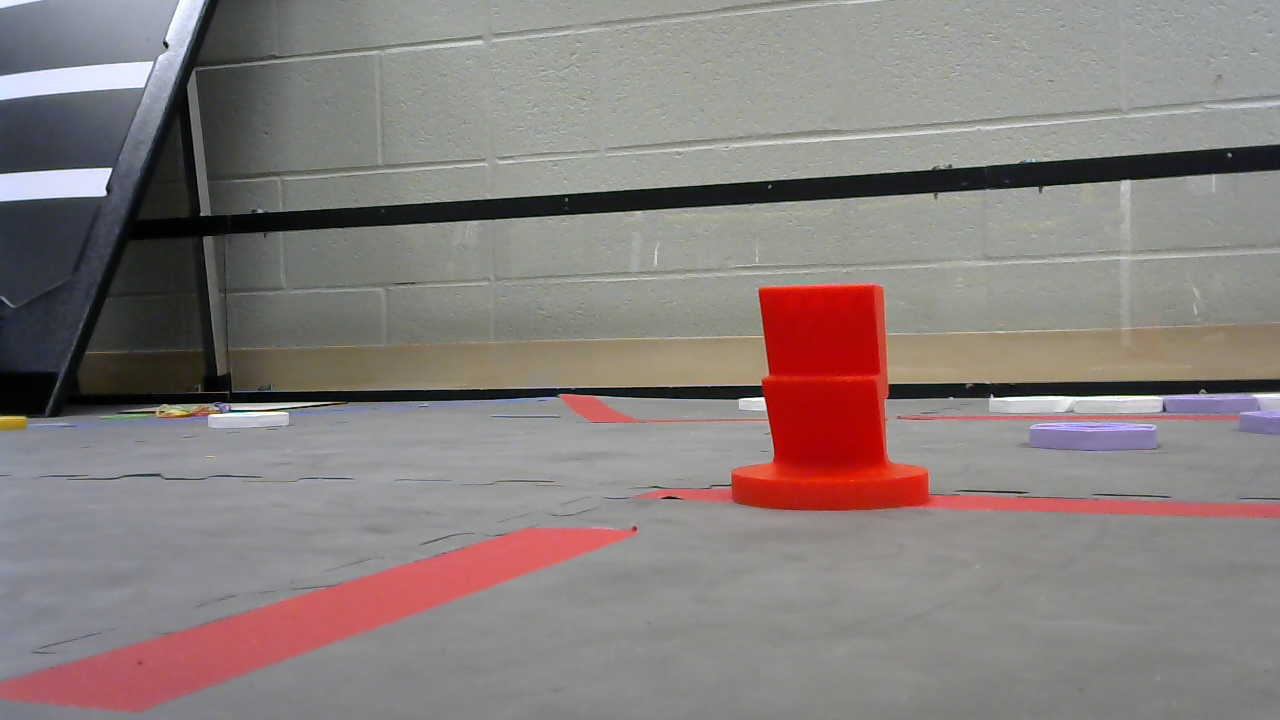redobject: (730, 284, 931, 511)
